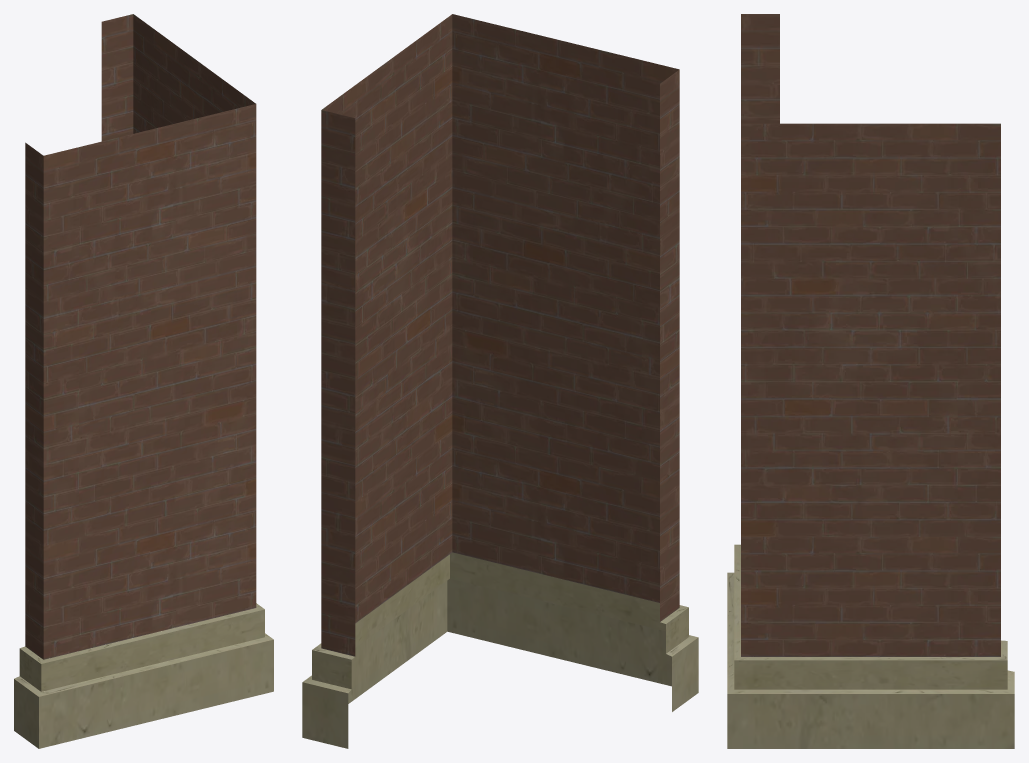
Rendered from Brick_CornerColumn_Bottom.glb.
The picture shows the model from 3 angles, left to right: view 1: azimuth 30°, elevation 25°; view 2: azimuth 150°, elevation 25°; view 3: azimuth 270°, elevation 25°; orthographic projection. The views are drawn at different scales.
Parts seen in each view (by area): view 1: Brick_CornerColumn_Bottom; view 2: Brick_CornerColumn_Bottom; view 3: Brick_CornerColumn_Bottom.
Part boxes in pixels (box(x1,y1,x2,y2)): Brick_CornerColumn_Bottom: box(14, 14, 273, 748); Brick_CornerColumn_Bottom: box(302, 14, 698, 748); Brick_CornerColumn_Bottom: box(727, 14, 1014, 748).
Size of the model in its own units: 1.26 by 3 by 1.26.
Materials: 2 (2 with a texture image).
